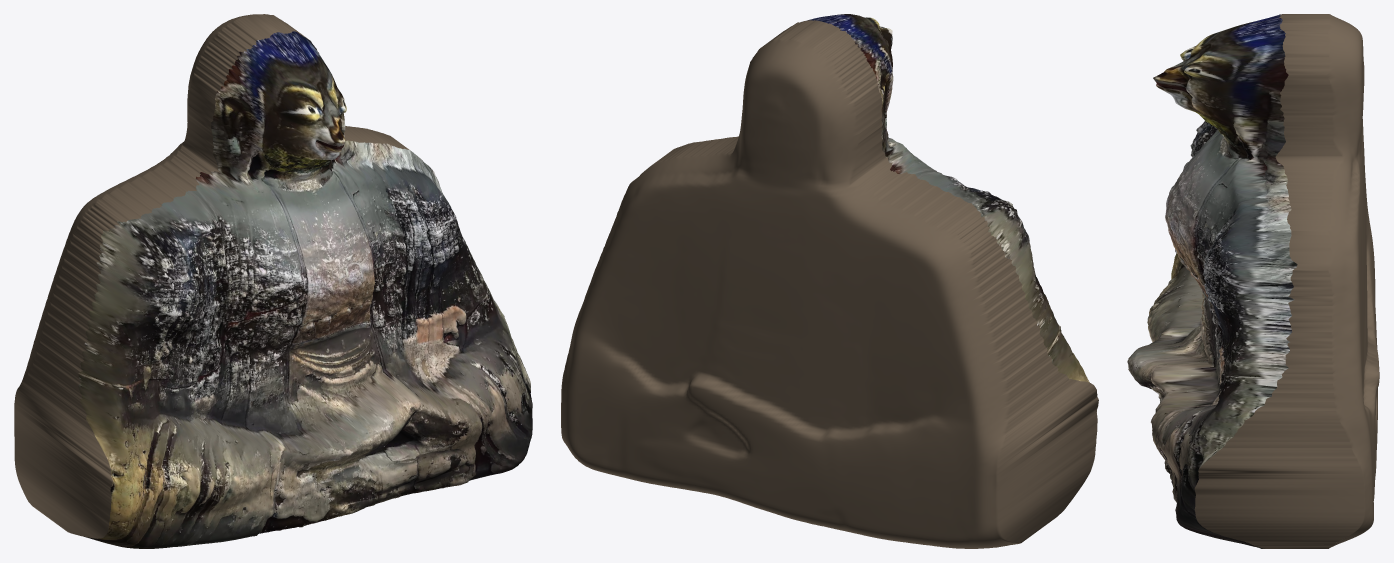
3 views of the same model, side by side, from view 1: azimuth 30°, elevation 25°; view 2: azimuth 150°, elevation 25°; view 3: azimuth 270°, elevation 25° (orthographic). The views are drawn at different scales.
Visible parts, largest first — view 1: 色彩留在石上; view 2: 色彩留在石上; view 3: 色彩留在石上.
Boxes of the visible parts, left/top/right/bottom form: 色彩留在石上: left=14, top=14, right=532, bottom=548; 色彩留在石上: left=561, top=14, right=1098, bottom=548; 色彩留在石上: left=1127, top=14, right=1379, bottom=548.
Size of the model in its own units: 1.99 by 2.03 by 1.05.
2 materials, 1 textured.
